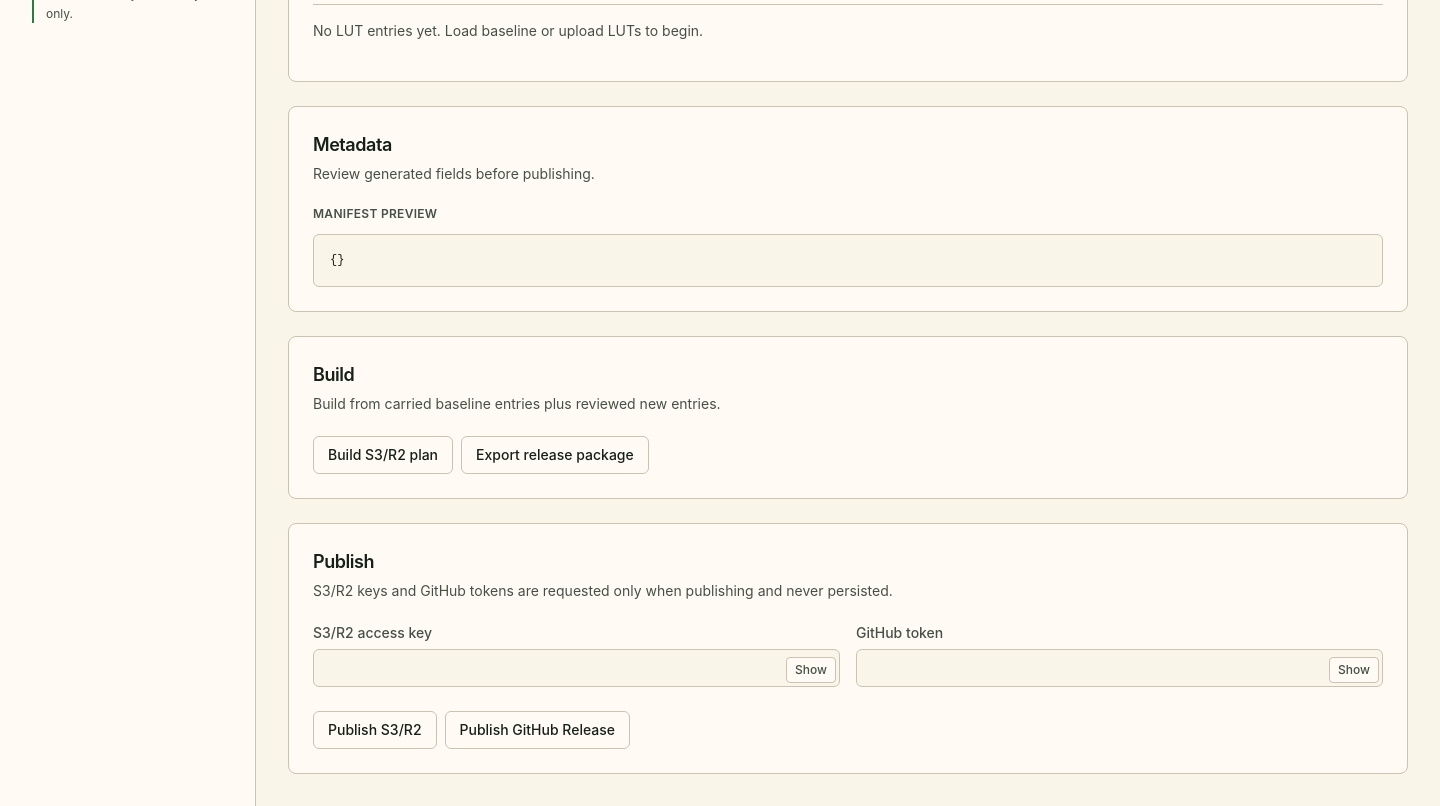
Test case: App › publishes to S3/R2 even when the region field is cleared (legacy parity)
(page scrolled)
Click the button "Publish S3/R2": (375, 730) [313, 710, 436, 748]
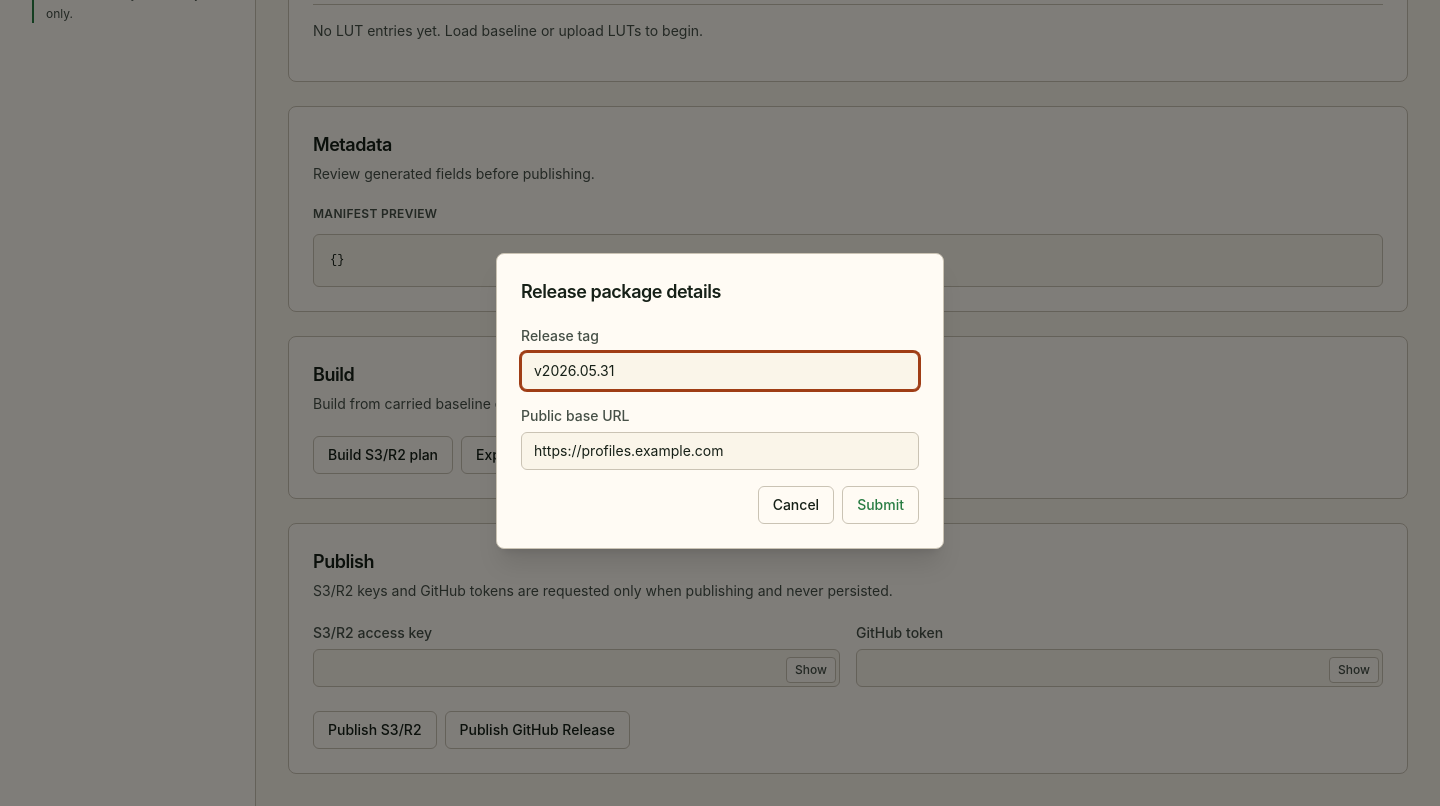
Now the dialog "Release package details" is shown, box [496, 253, 944, 549]
Click the button "Submit": (881, 505) [842, 486, 919, 524]
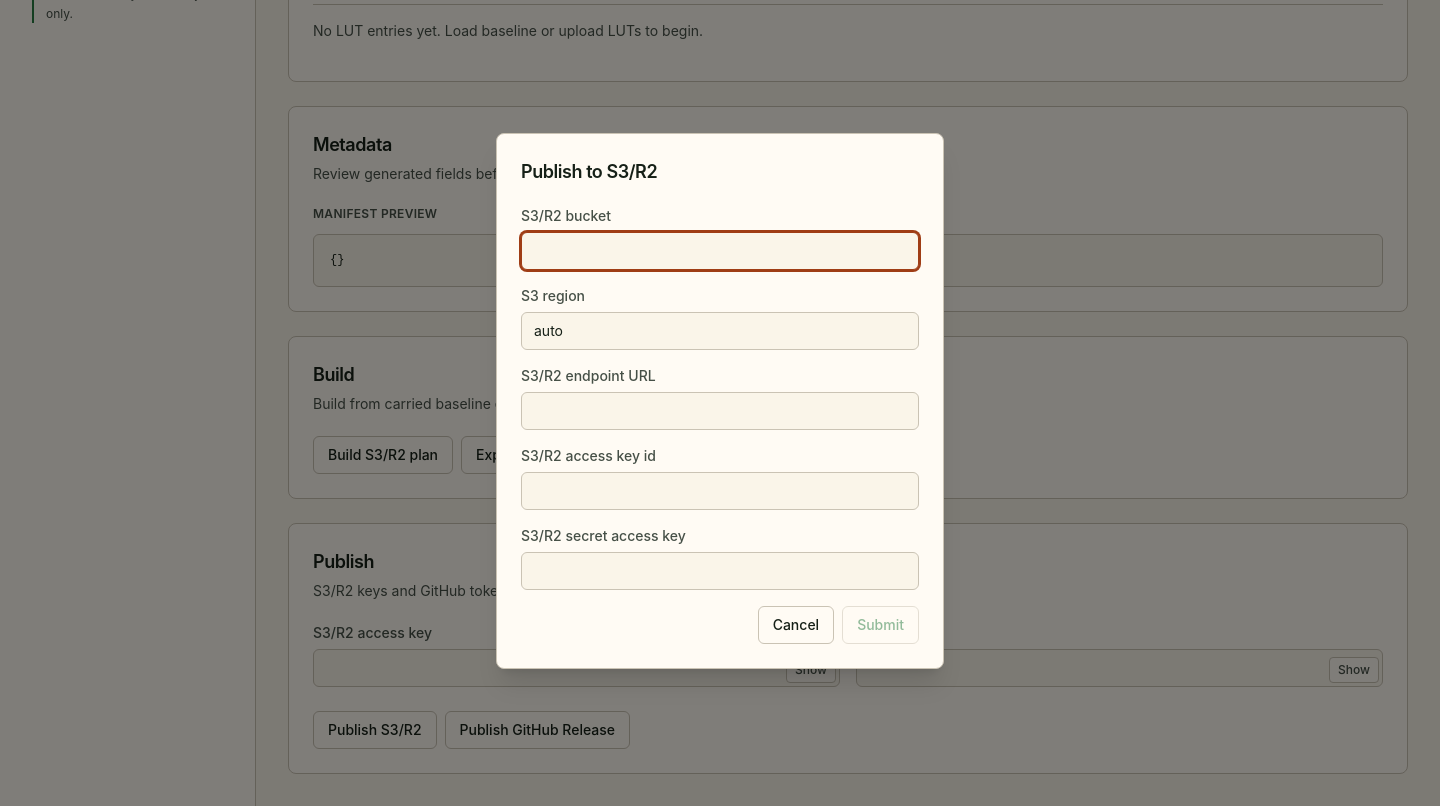
Now the dialog "Publish to S3/R2" is shown, box [496, 133, 944, 669]
In the field labelled "S3/R2 bucket": (720, 251) [521, 232, 919, 270], type "my-bucket"
// Clear the region field so it submits empty (must NOT block).
Clear the field labelled "S3 region": (720, 331) [521, 312, 919, 350]
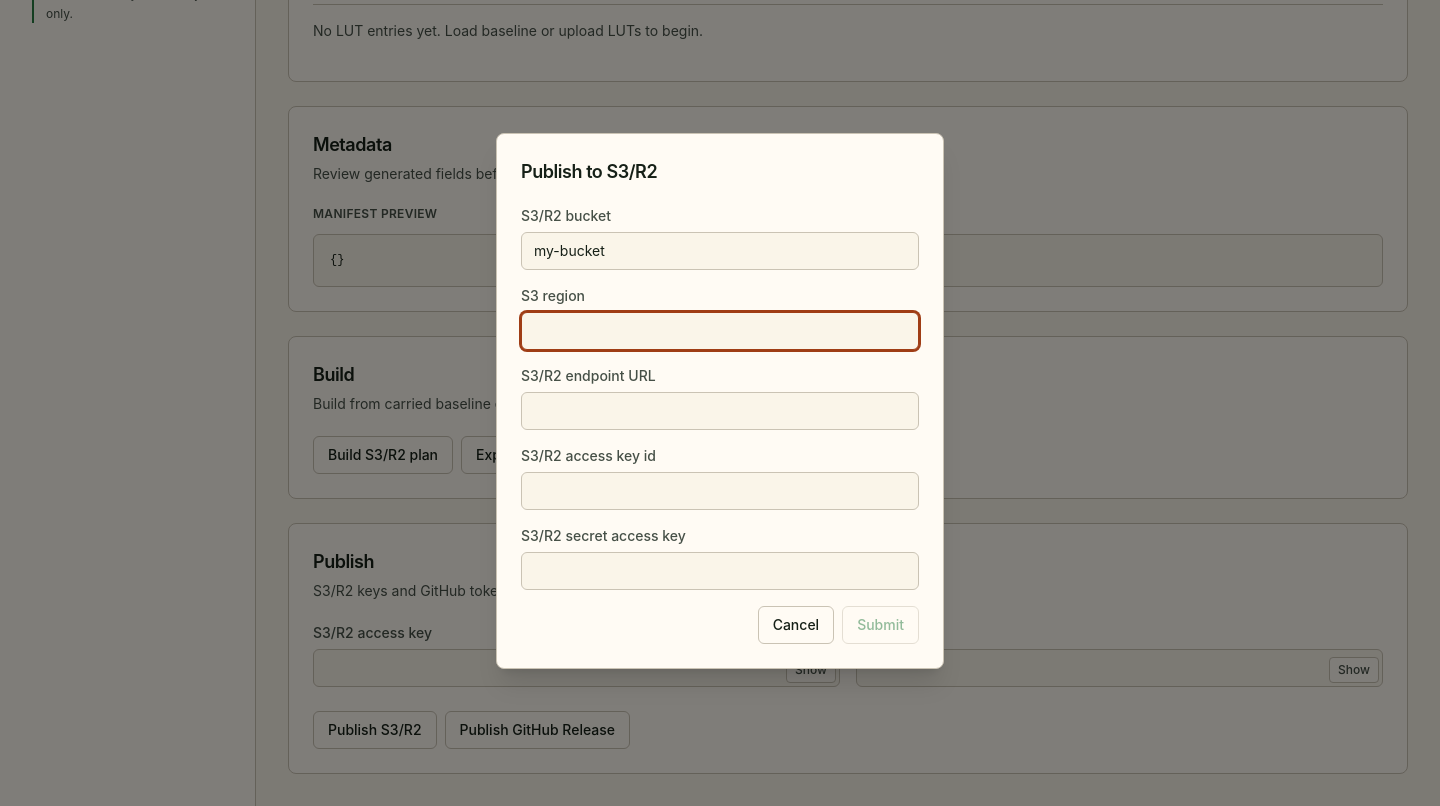
In the field labelled "S3/R2 access key id": (720, 491) [521, 472, 919, 510], type "AKIA-TEST"
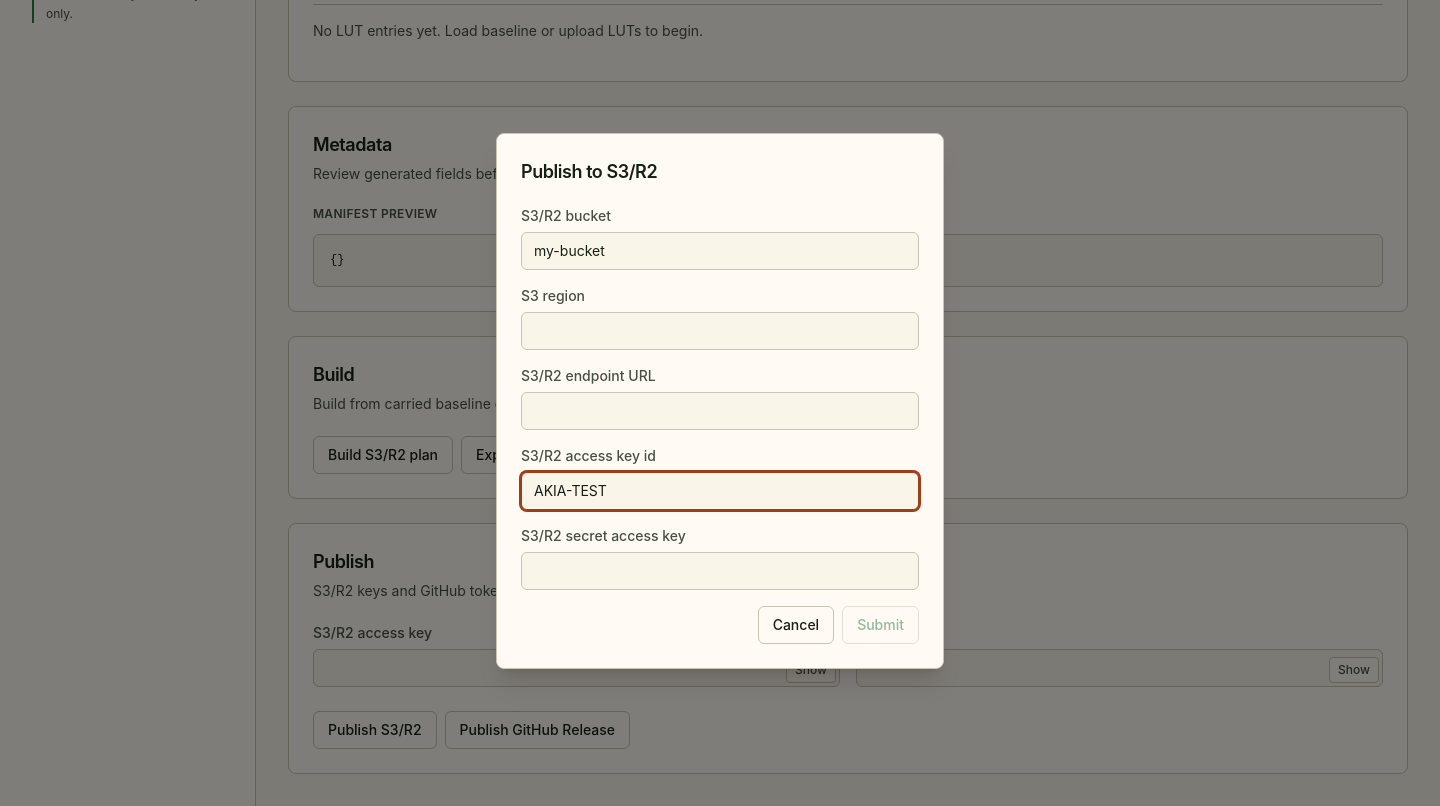
In the field labelled "S3/R2 secret access key": (720, 571) [521, 552, 919, 590], type "secret-test"
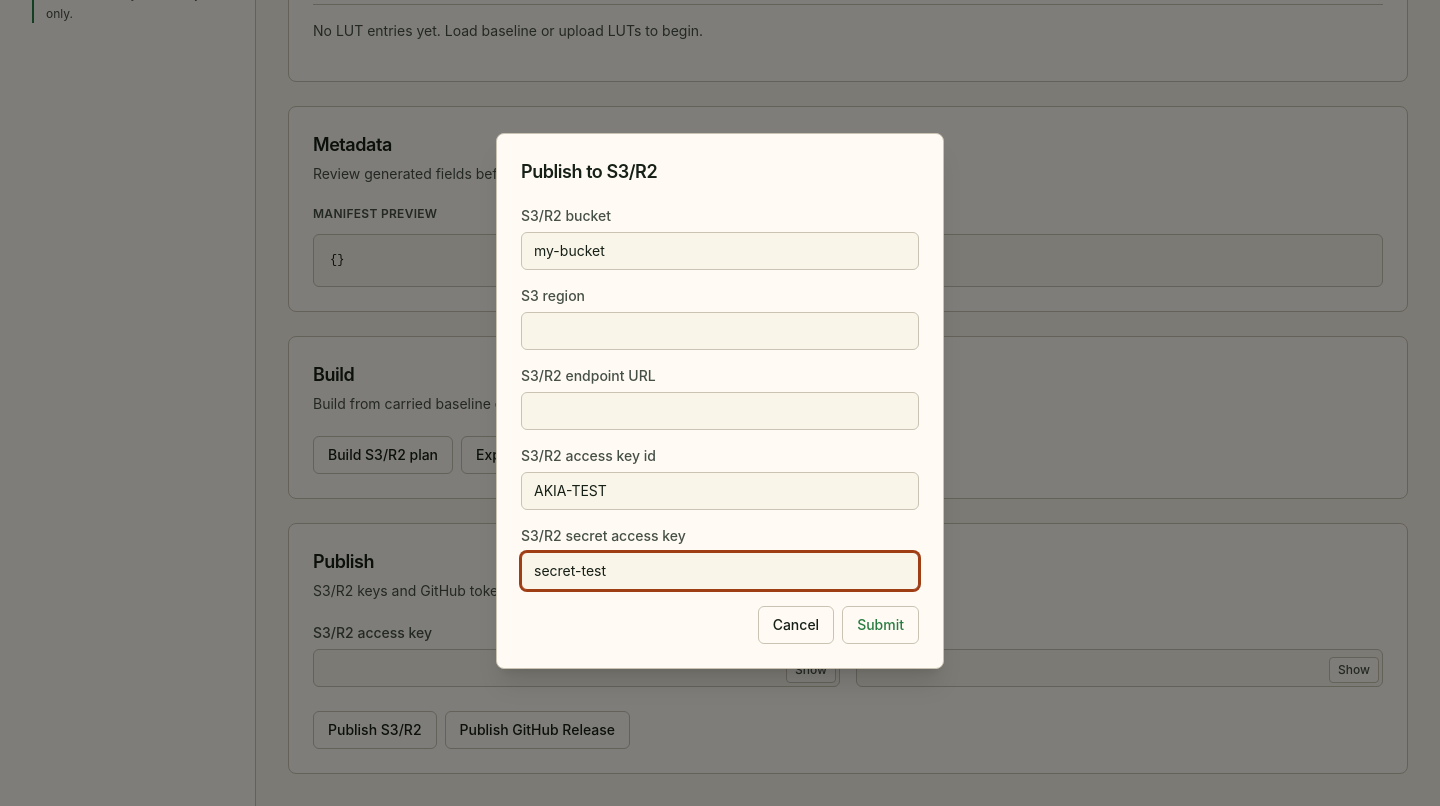
Click the button "Submit": (881, 625) [842, 606, 919, 644]
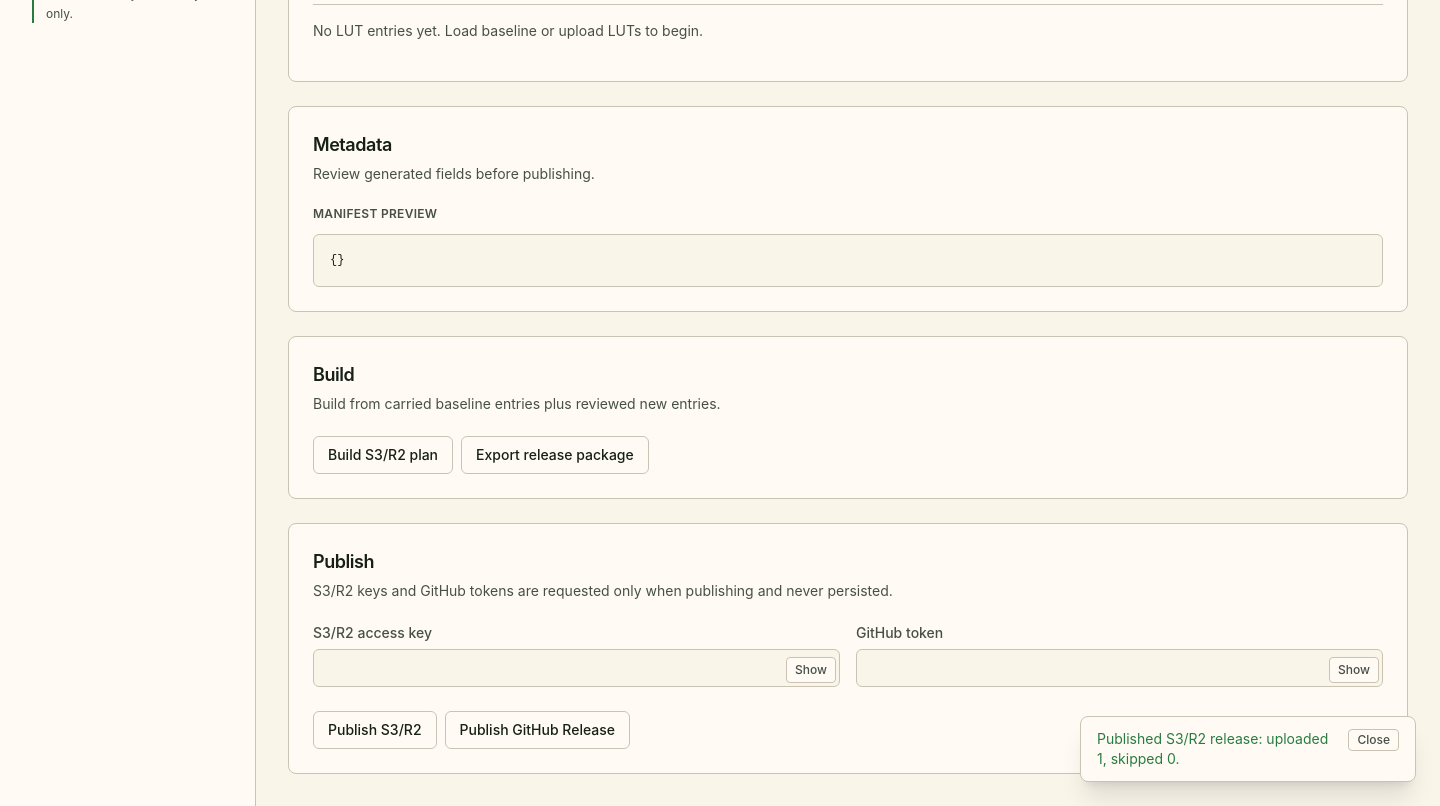
Now the text "Published S3/R2 release: uploaded 1, skipped 0." is shown, box [1097, 729, 1336, 769]
